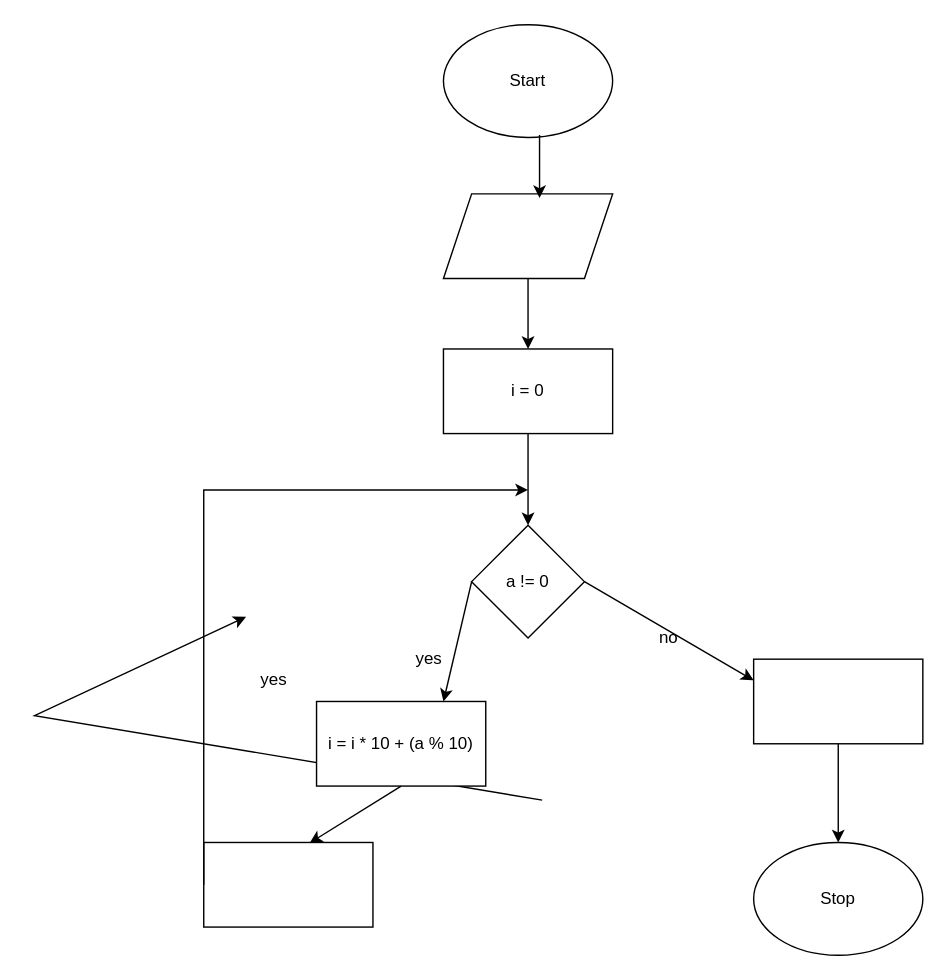
Some shapes in this 948 by 980 pixel diagram are drawn without their labels. The box of each missing label's shape, as (x1, y1, x2, y2) in pixels:
a = a / 10: (202, 841, 373, 927)
display i: (752, 658, 923, 744)
int a: (442, 192, 613, 278)
